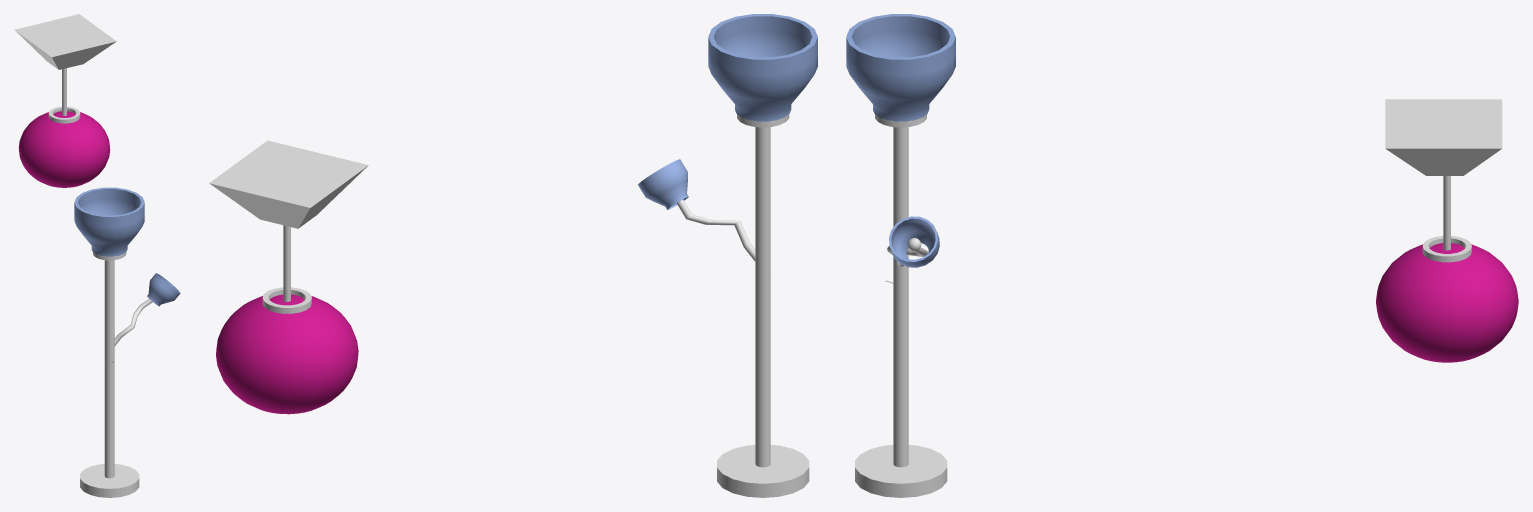
Rendered from lustre.FBX.
3 views of the same model, side by side, from view 1: azimuth 30°, elevation 25°; view 2: azimuth 150°, elevation 25°; view 3: azimuth 270°, elevation 25° (orthographic). The views are drawn at different scales.
Visible parts, largest first — view 1: Sphère001, Tube002, Boîte001, Cylindre002, Cylindre003, Tube003, Tube001, Cylindre005, Cylindre001; view 2: Sphère001, Tube002, Boîte001, Cylindre002, Cylindre003, Tube003, Tube001, Cylindre005; view 3: Sphère001, Tube002, Boîte001, Cylindre002, Cylindre003, Tube003, Tube001.
Part boxes in pixels (left/top/right/bottom): Sphère001: left=18, top=111, right=110, bottom=187; Tube002: left=74, top=187, right=144, bottom=256; Boîte001: left=14, top=14, right=116, bottom=69; Cylindre002: left=104, top=260, right=114, bottom=478; Cylindre003: left=80, top=464, right=139, bottom=497; Tube003: left=147, top=273, right=180, bottom=306; Tube001: left=48, top=106, right=80, bottom=123; Cylindre005: left=114, top=299, right=152, bottom=346; Cylindre001: left=62, top=68, right=66, bottom=115; Sphère001: left=216, top=294, right=358, bottom=414; Tube002: left=708, top=14, right=817, bottom=121; Boîte001: left=209, top=140, right=368, bottom=228; Cylindre002: left=755, top=127, right=770, bottom=467; Cylindre003: left=717, top=445, right=809, bottom=497; Tube003: left=638, top=159, right=688, bottom=209; Tube001: left=262, top=287, right=311, bottom=313; Cylindre005: left=676, top=199, right=755, bottom=261; Sphère001: left=1376, top=243, right=1518, bottom=362; Tube002: left=846, top=14, right=955, bottom=121; Boîte001: left=1385, top=99, right=1502, bottom=175; Cylindre002: left=893, top=127, right=908, bottom=467; Cylindre003: left=855, top=445, right=947, bottom=497; Tube003: left=889, top=216, right=939, bottom=267; Tube001: left=1422, top=235, right=1471, bottom=262.
Bounding box in the file's own units: 46.08 × 64.07 × 86.18.
